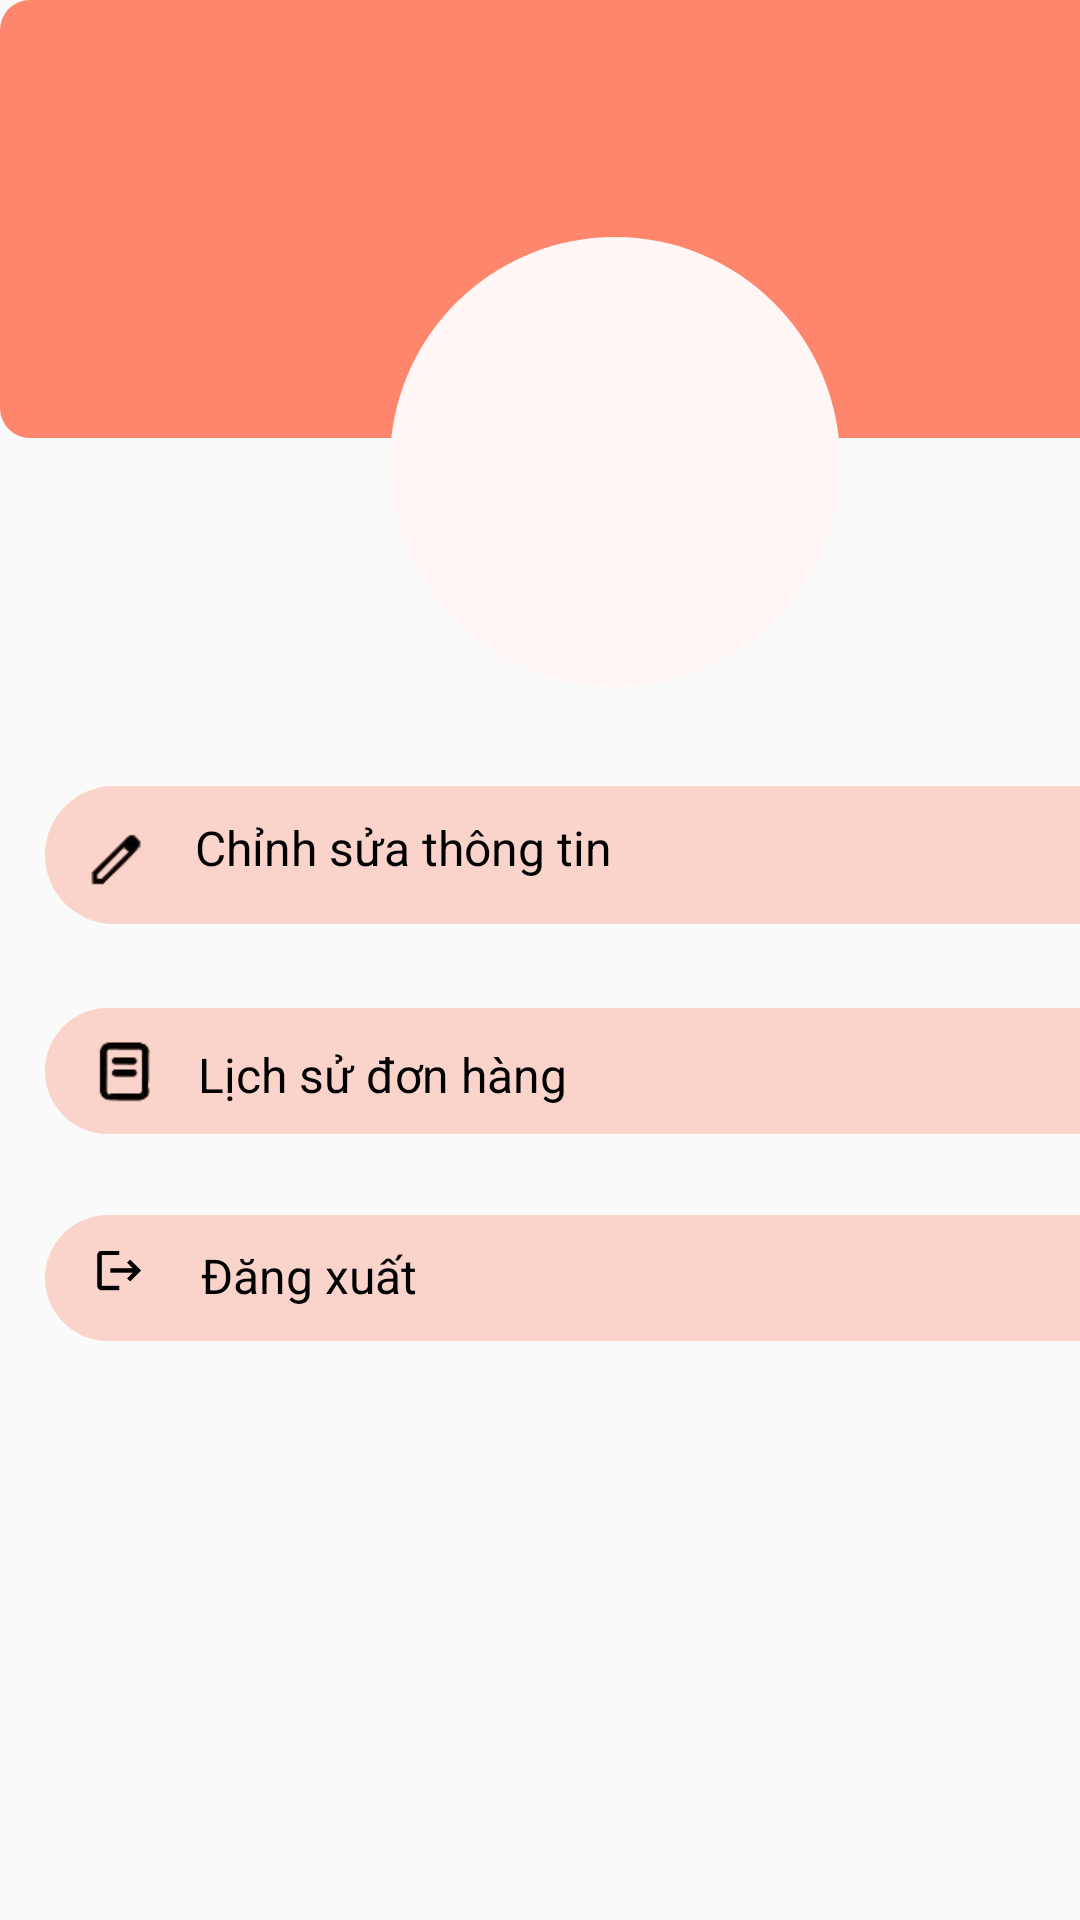

Icon click points for this 1080x1920 phone screenshot, format (x=x, y=y):
dang xuat: (x=119, y=1271)
order: (x=124, y=1072)
pen: (x=116, y=860)
